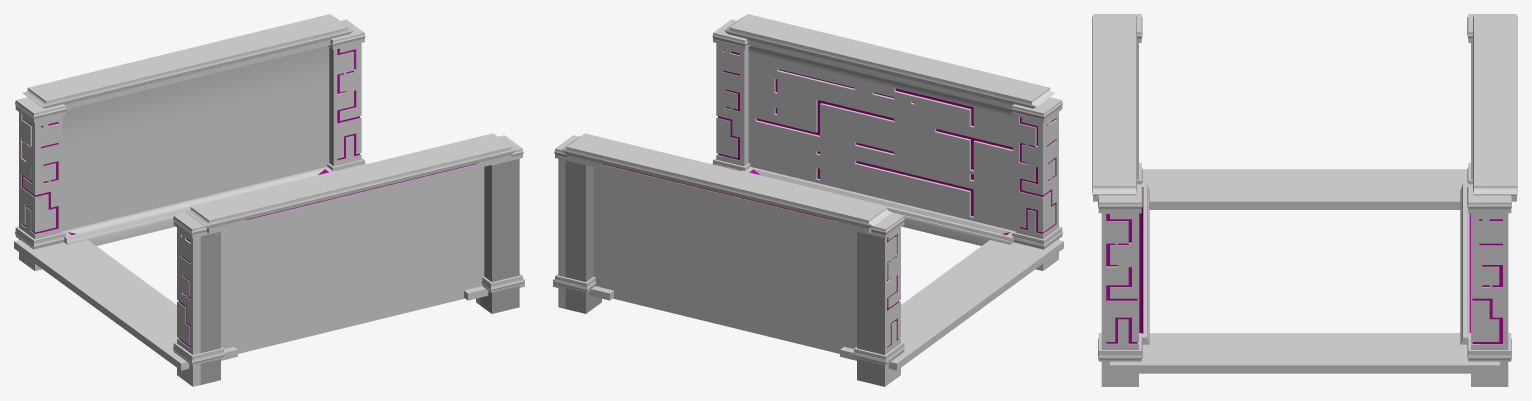
File: DraftRoom.fbx
3 renders of one model, left to right at view 1: azimuth 30°, elevation 25°; view 2: azimuth 150°, elevation 25°; view 3: azimuth 270°, elevation 25°, orthographic. The views are drawn at different scales.
Parts seen in each view (by area): view 1: pasted__pCube2, pCube2, pCube8, pCube15, pCube19, pCube21, pCube27, pCube5, pCube24, pCube28, pCube22, pCube20 (+3 smaller); view 2: pCube2, pasted__pCube2, pCube15, pCube8, pCube19, pCube27, pCube21, pCube24, pCube5, pCube22, pCube28, pCube26 (+3 smaller); view 3: pCube4, pCube19, pCube8, pCube15, pCube5, pCube24, pCube2, pasted__pCube2, pCube7, pCube25, pCube6, pCube23.
Part boxes in pixels (x1,y1,x2,y2): pasted__pCube2: [62, 46, 336, 245]; pCube2: [221, 167, 484, 353]; pCube8: [185, 133, 516, 233]; pCube15: [22, 14, 353, 109]; pCube19: [14, 240, 237, 370]; pCube21: [177, 228, 220, 386]; pCube27: [19, 112, 62, 270]; pCube5: [476, 159, 519, 313]; pCube24: [329, 43, 361, 166]; pCube28: [15, 97, 66, 122]; pCube22: [173, 213, 223, 238]; pCube20: [173, 342, 224, 365]; pCube2: [741, 46, 1015, 245]; pasted__pCube2: [593, 167, 856, 353]; pCube15: [561, 133, 892, 233]; pCube8: [724, 14, 1055, 109]; pCube19: [840, 240, 1063, 370]; pCube27: [857, 228, 900, 386]; pCube21: [1015, 112, 1058, 270]; pCube24: [558, 159, 601, 313]; pCube5: [716, 43, 748, 166]; pCube22: [1011, 97, 1062, 122]; pCube28: [854, 213, 904, 238]; pCube26: [853, 342, 904, 365]; pCube4: [1110, 333, 1499, 373]; pCube19: [1142, 169, 1467, 209]; pCube8: [1092, 14, 1136, 201]; pCube15: [1473, 14, 1517, 201]; pCube5: [1101, 213, 1138, 386]; pCube24: [1471, 213, 1508, 386]; pCube2: [1139, 183, 1149, 344]; pasted__pCube2: [1460, 183, 1470, 344]; pCube7: [1098, 184, 1142, 213]; pCube25: [1467, 184, 1511, 213]; pCube6: [1098, 333, 1142, 361]; pCube23: [1467, 333, 1511, 361].
Bounding box in the file's own units: 25.36 × 11.7 × 23.26.
